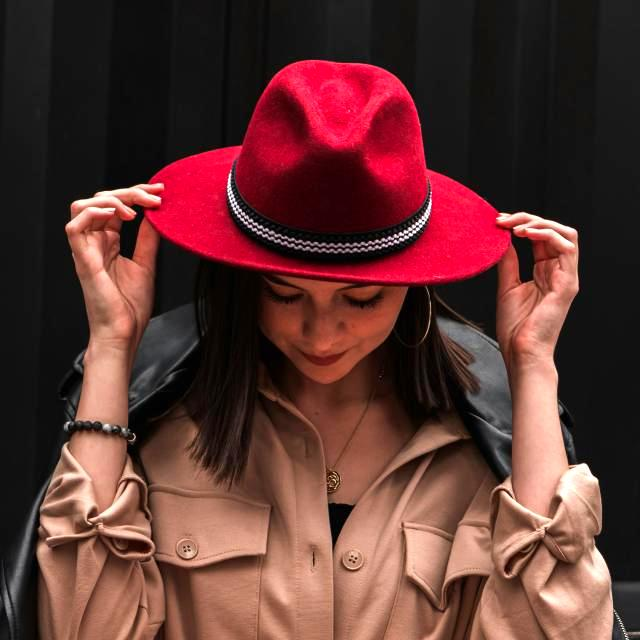no_hard_hat: (145, 61, 510, 286)
person: (35, 62, 613, 640)
